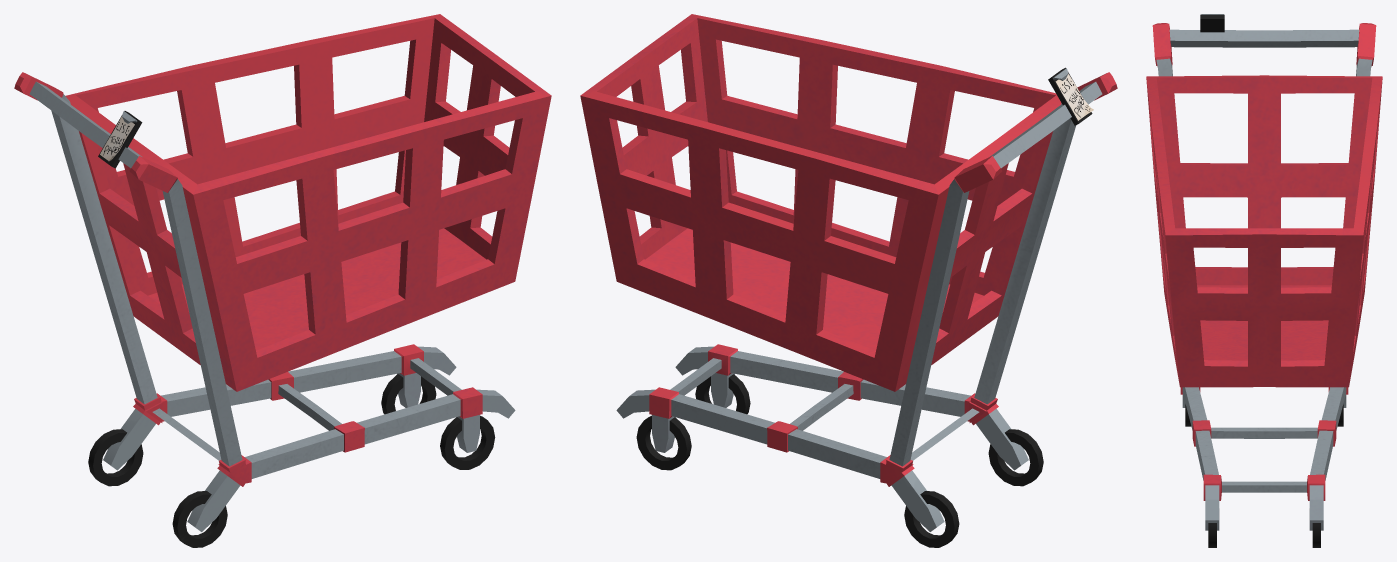
The model's file is Cart.glb.
3 renders of one model, left to right at view 1: azimuth 30°, elevation 25°; view 2: azimuth 150°, elevation 25°; view 3: azimuth 270°, elevation 25°, orthographic. The views are drawn at different scales.
Visible parts, largest first — view 1: CartWheel.001_Cart_0; view 2: CartWheel.001_Cart_0; view 3: CartWheel.001_Cart_0.
Part boxes in pixels (box(x1,y1,x2,y2)): CartWheel.001_Cart_0: box(14, 14, 551, 547); CartWheel.001_Cart_0: box(580, 14, 1117, 547); CartWheel.001_Cart_0: box(1146, 14, 1382, 547).
Bounding box in the file's own units: 11.42 × 11.21 × 6.24.
1 material, 1 textured.
